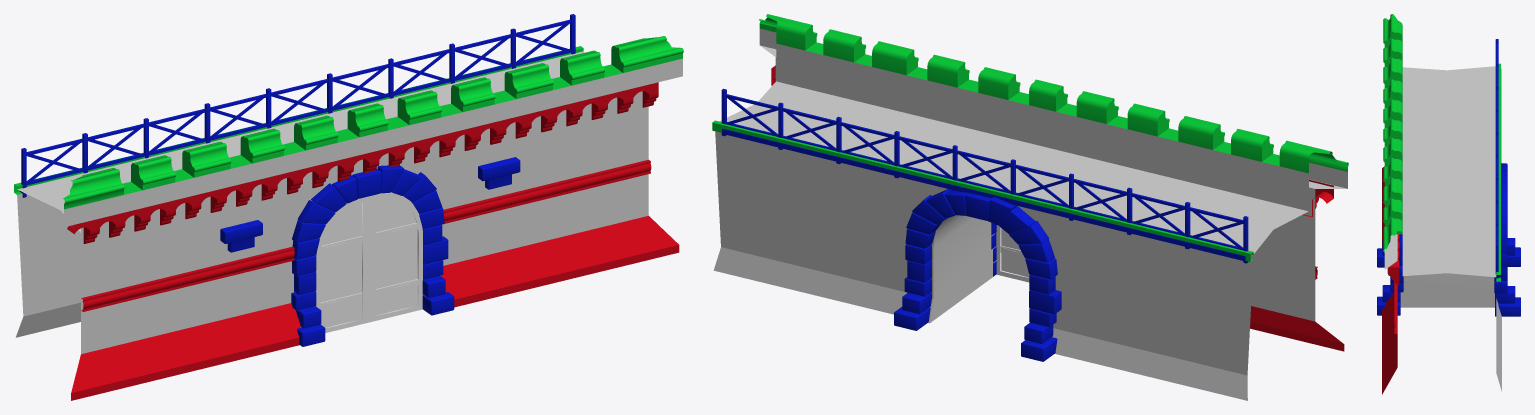
Rendered from Wall_Goal.fbx.
3 renders of one model, left to right at view 1: azimuth 30°, elevation 25°; view 2: azimuth 150°, elevation 25°; view 3: azimuth 270°, elevation 25°, orthographic. The views are drawn at different scales.
Visible parts, largest first — view 1: Group_4.002, Group_3.002, Group_3.008, Group_3.007; view 2: Group_4.002, Group_3.002, Group_3.008; view 3: Group_4.002, Group_3.002.
Boxes of the visible parts, x1,y1,x2,y2 form: Group_4.002: (14,36,683,400); Group_3.002: (19,14,575,197); Group_3.008: (369,192,422,322); Group_3.007: (315,196,369,332); Group_4.002: (712,14,1348,400); Group_3.002: (721,88,1248,263); Group_3.008: (996,225,1029,282); Group_4.002: (1377,14,1520,394); Group_3.002: (1495,39,1501,281).
Bounding box in the file's own units: 2095 × 690 × 552.
